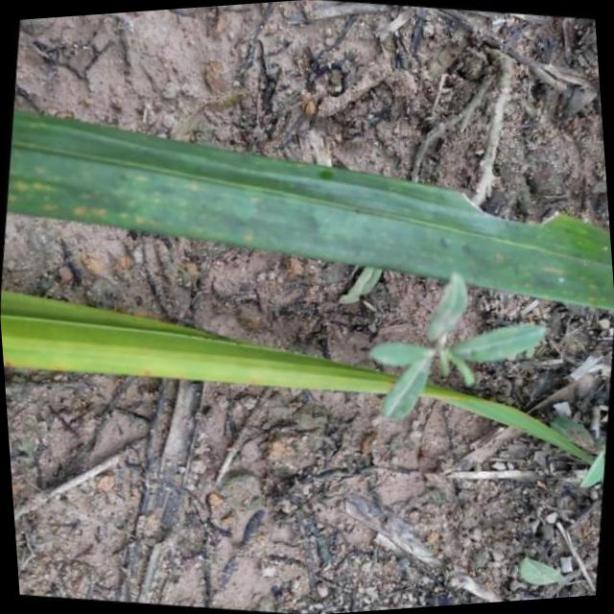nitrogen: (0, 286, 584, 478)
